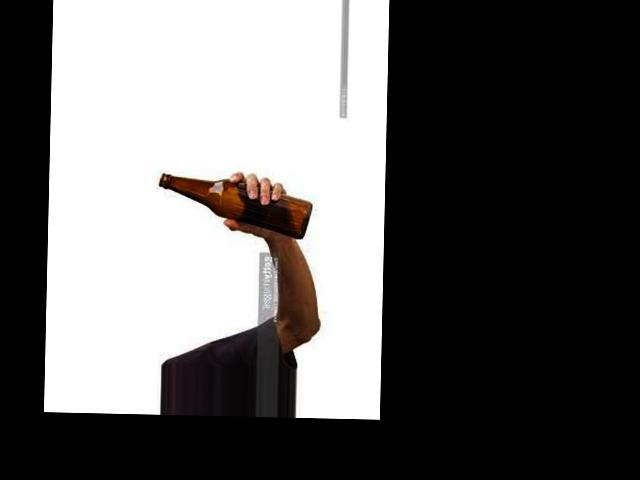beer: (158, 173, 312, 240)
